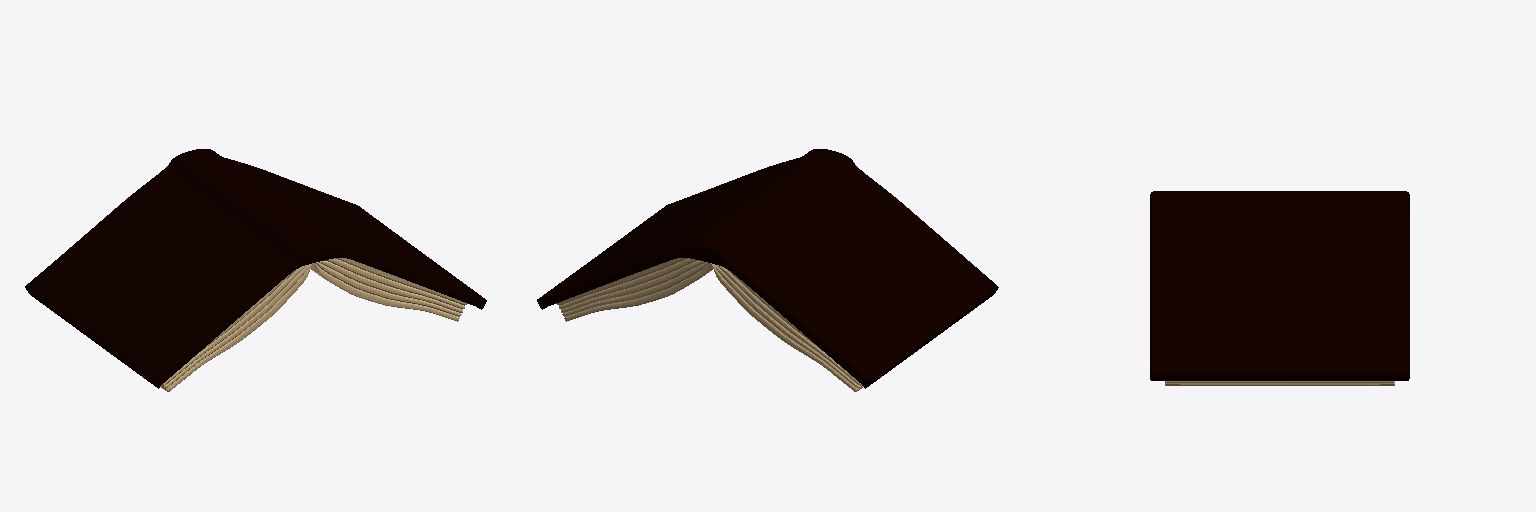
Rendered from flying_book.obj.
3 renders of one model, left to right at view 1: azimuth 30°, elevation 25°; view 2: azimuth 150°, elevation 25°; view 3: azimuth 270°, elevation 25°, orthographic.
Parts seen in each view (by area): view 1: mesh-book.03_Cube.003, mesh-book.000_Cube.000; view 2: mesh-book.03_Cube.003, mesh-book.000_Cube.000; view 3: mesh-book.03_Cube.003, mesh-book.000_Cube.000.
Part boxes in pixels (x1,y1,x2,y2): mesh-book.03_Cube.003: (25,149,486,388); mesh-book.000_Cube.000: (160,258,467,391); mesh-book.03_Cube.003: (537,149,998,388); mesh-book.000_Cube.000: (556,258,863,391); mesh-book.03_Cube.003: (1150,191,1409,380); mesh-book.000_Cube.000: (1165,381,1394,385).
Size of the model in its own units: 0.5025 by 0.1708 by 0.3392.